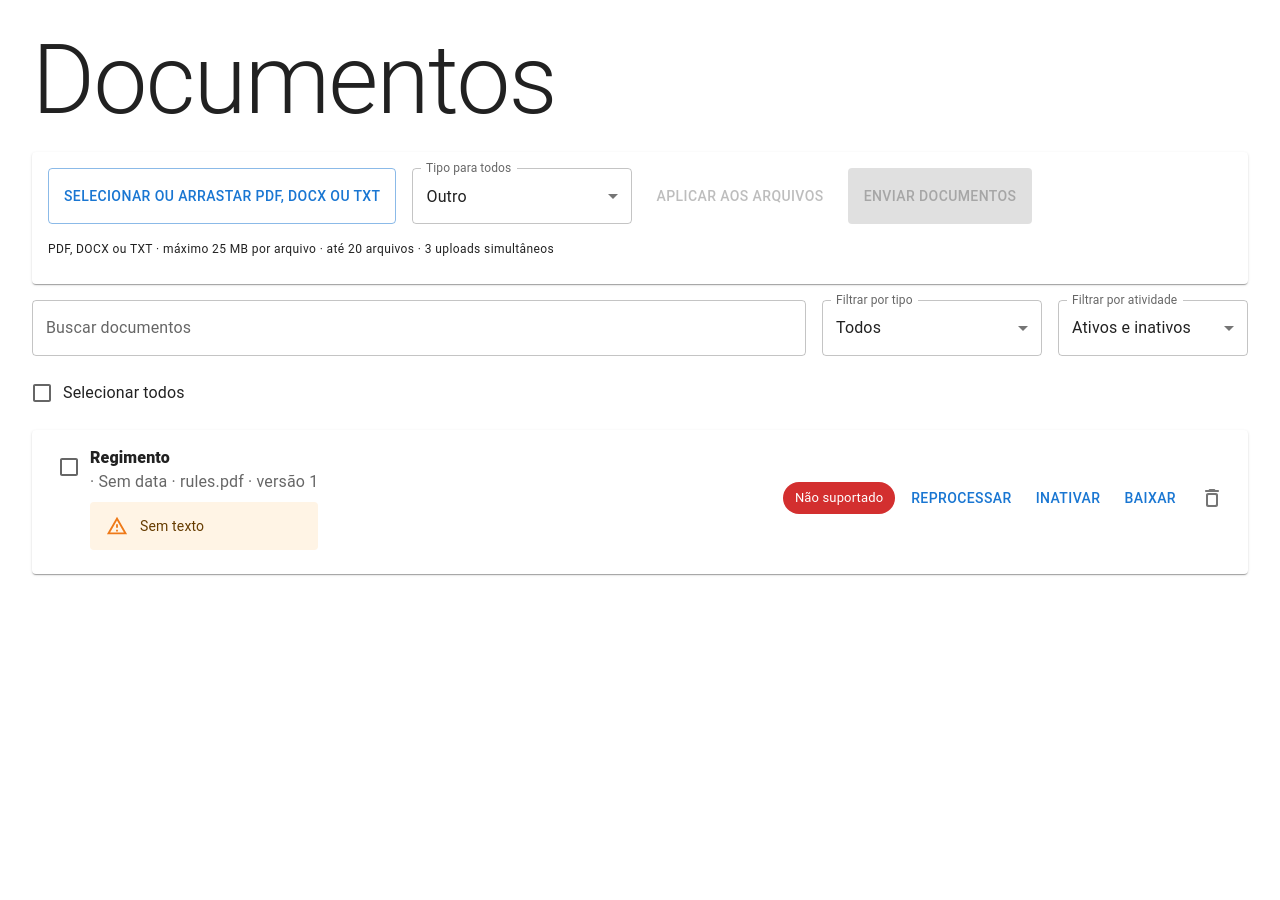
Test: CondominiumAssistantPage › keeps the document when deletion fails
Click the button named "Excluir Regimento": (1212, 498) [1192,478,1232,518]
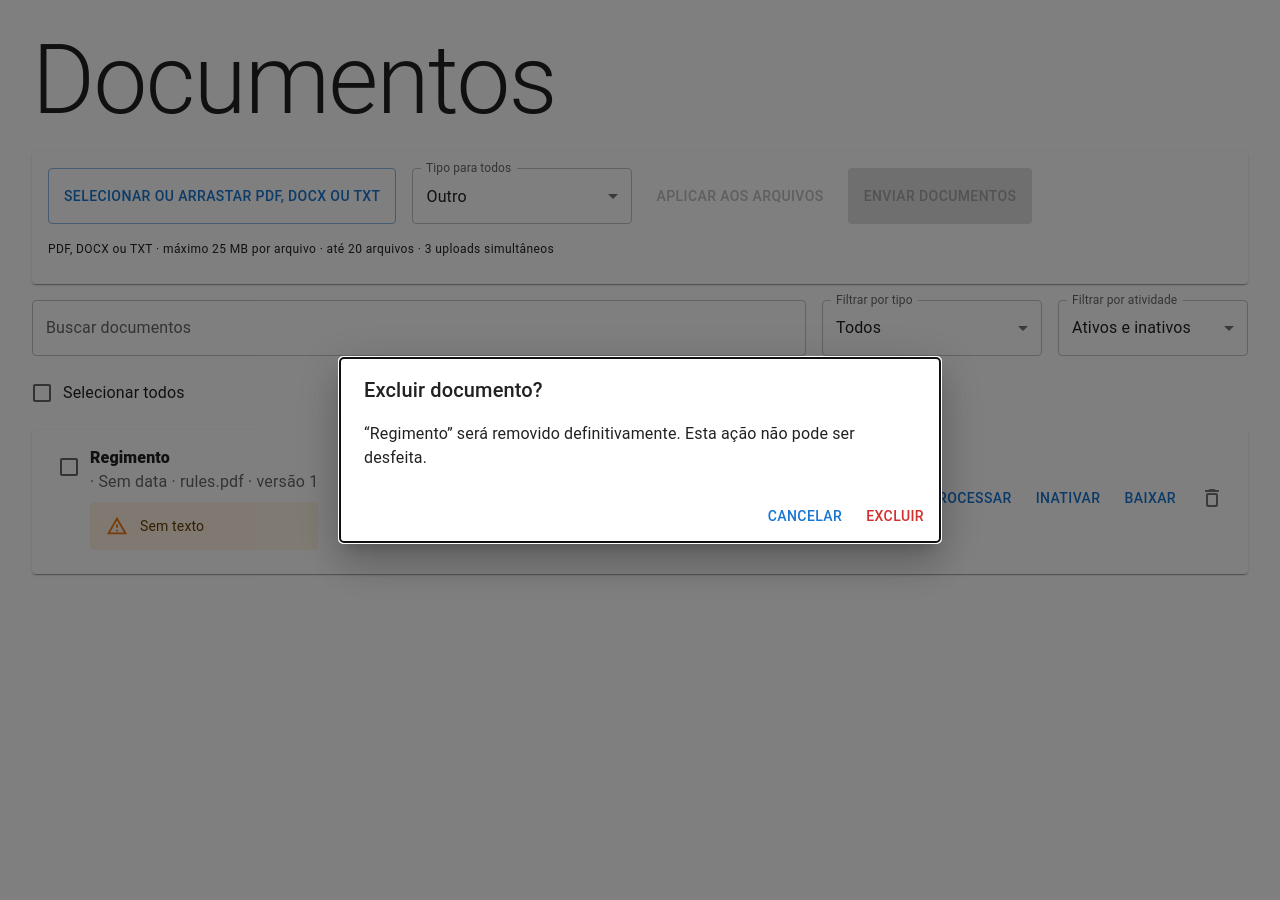
Click the button "Excluir": (895, 516) [858,498,932,534]
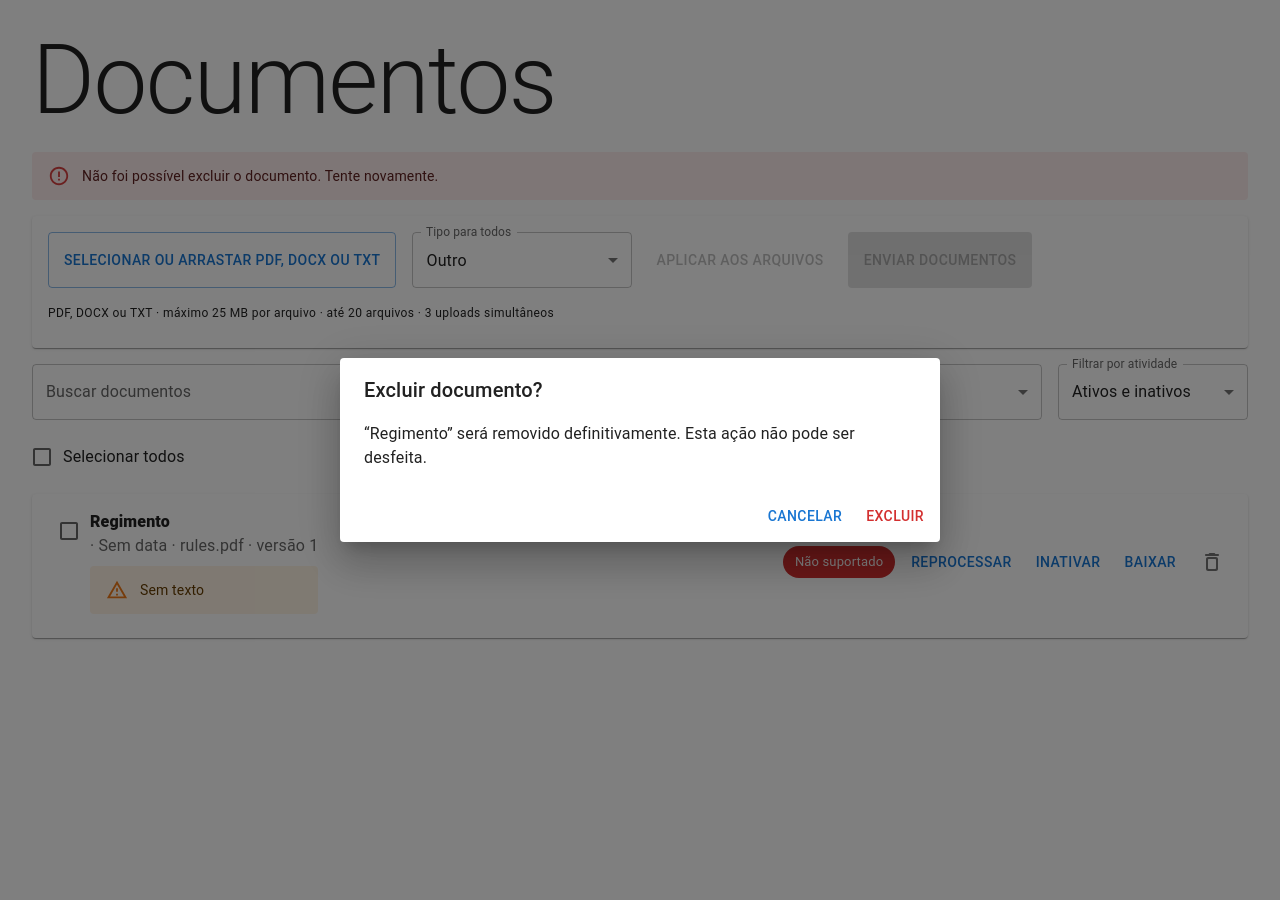
Check: the text "Regimento" is shown, box [90,512,170,531]
Check: the text "Não foi possível excluir o documento. Tente novamente." is shown, box [82,168,438,184]
